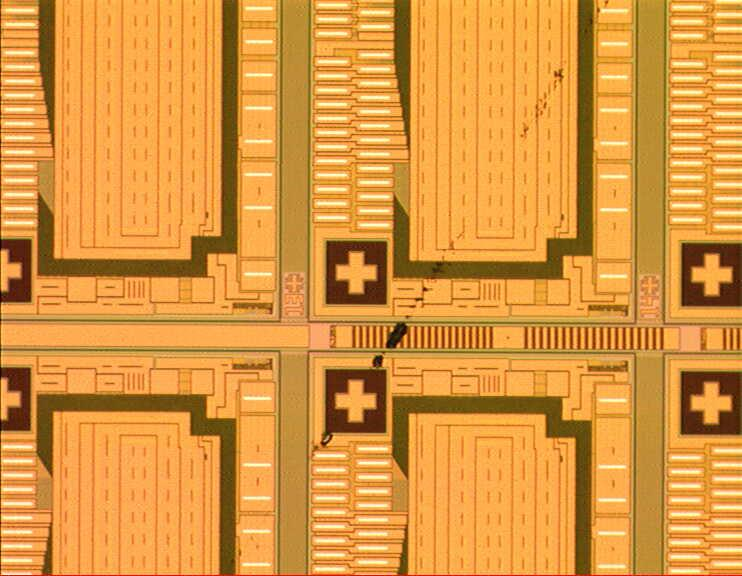SCRATCH: (213, 2, 623, 575)
